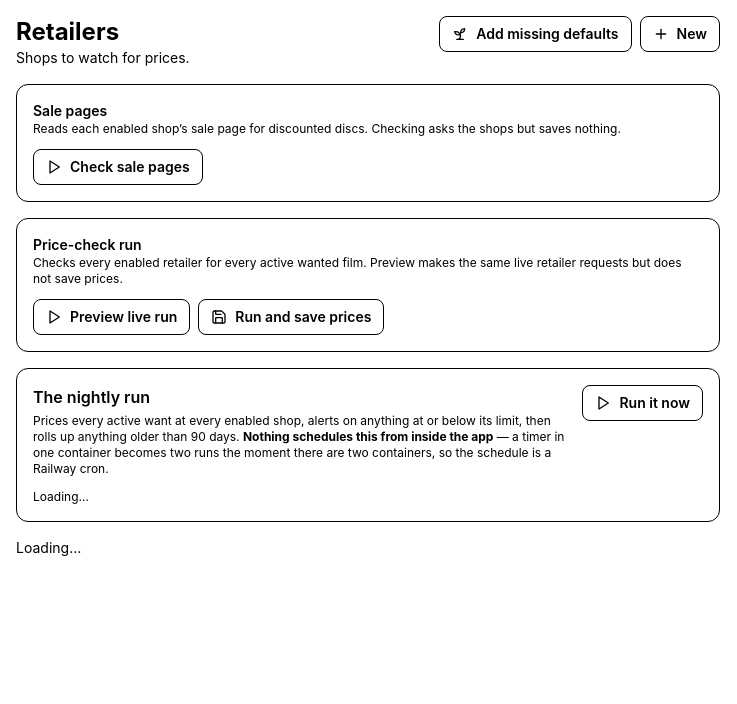
RetailersPage — checking the sale pages (Batch 22b) › says a shop that asks the app to wait can take a minute and a half (20b)
Click the button "Check sale pages".
click(118, 167)  # box [33,149,203,185]
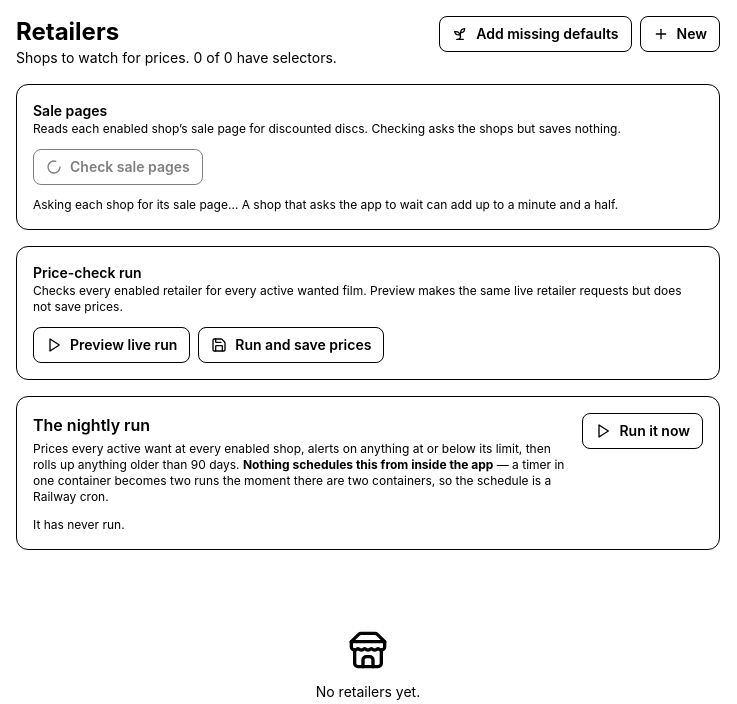
Result: the text "A shop that asks the app to wait can add up to a minute and a half" is shown at [33,197,618,212]
